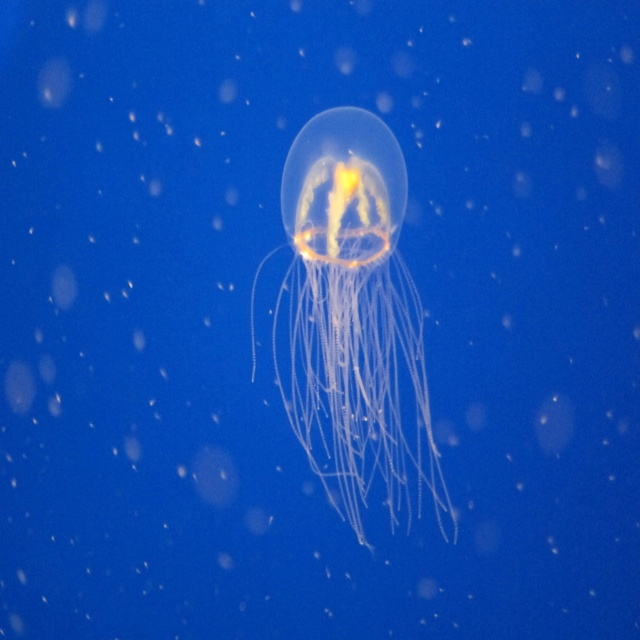Jellyfish: (249, 106, 458, 556)
